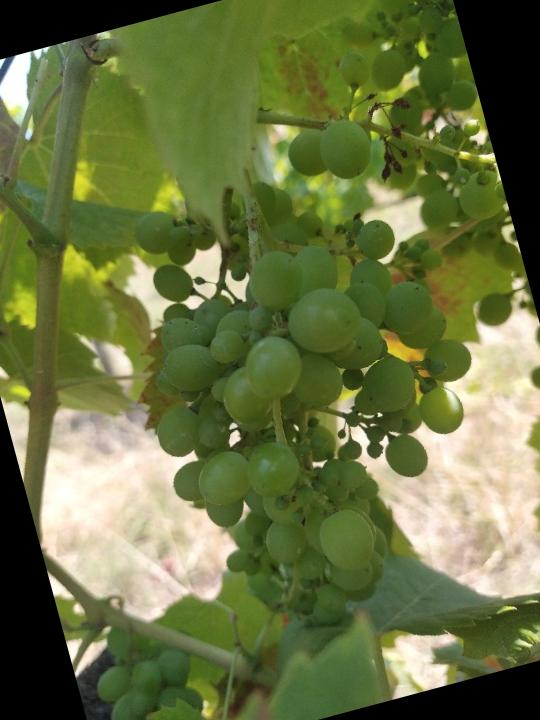grape: (67, 38, 533, 663)
